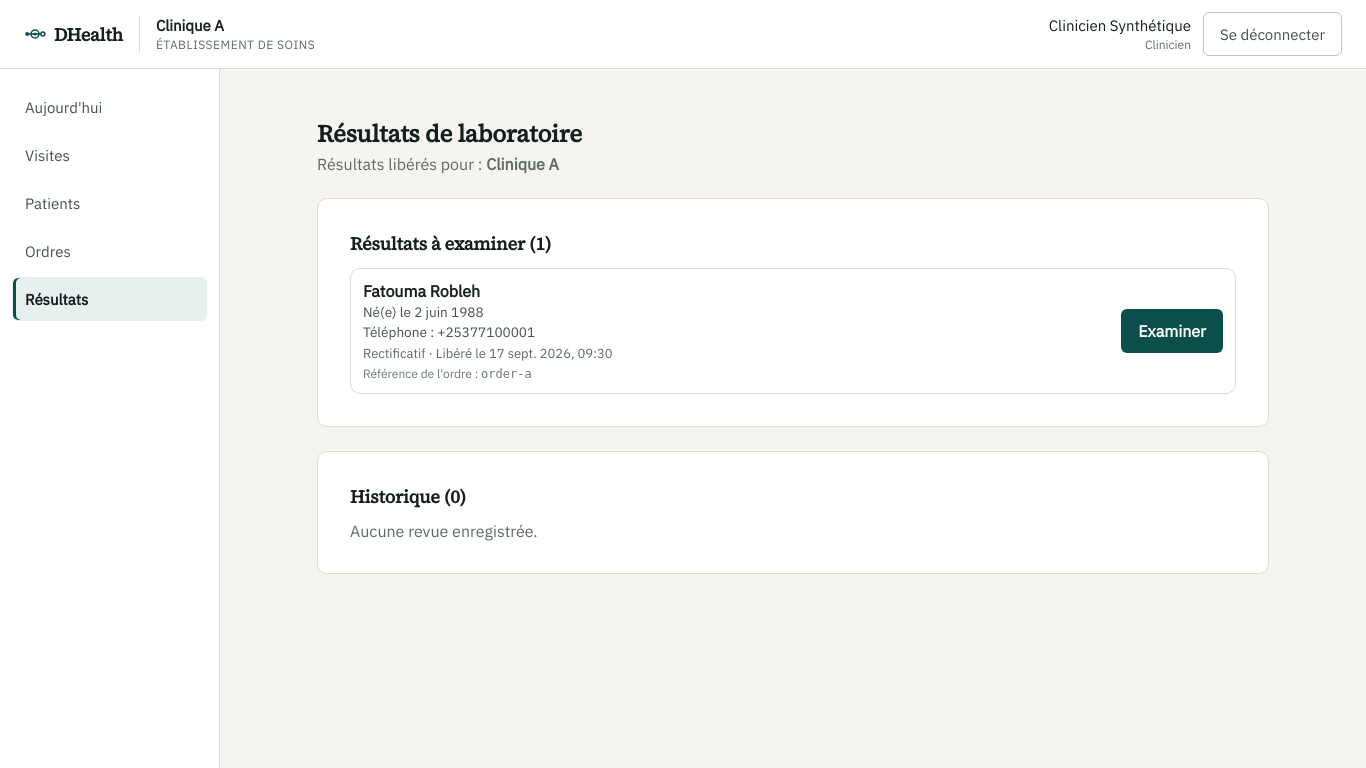
Scenario: ClinicResultsPage › UI-CUR3: the banner takes the clinician to the current version, and then withdraws
The width and height of the screenshot is (1366, 768).
Click the button "Examiner": x=1172, y=331 [1121,309,1223,353]
(page scrolled)
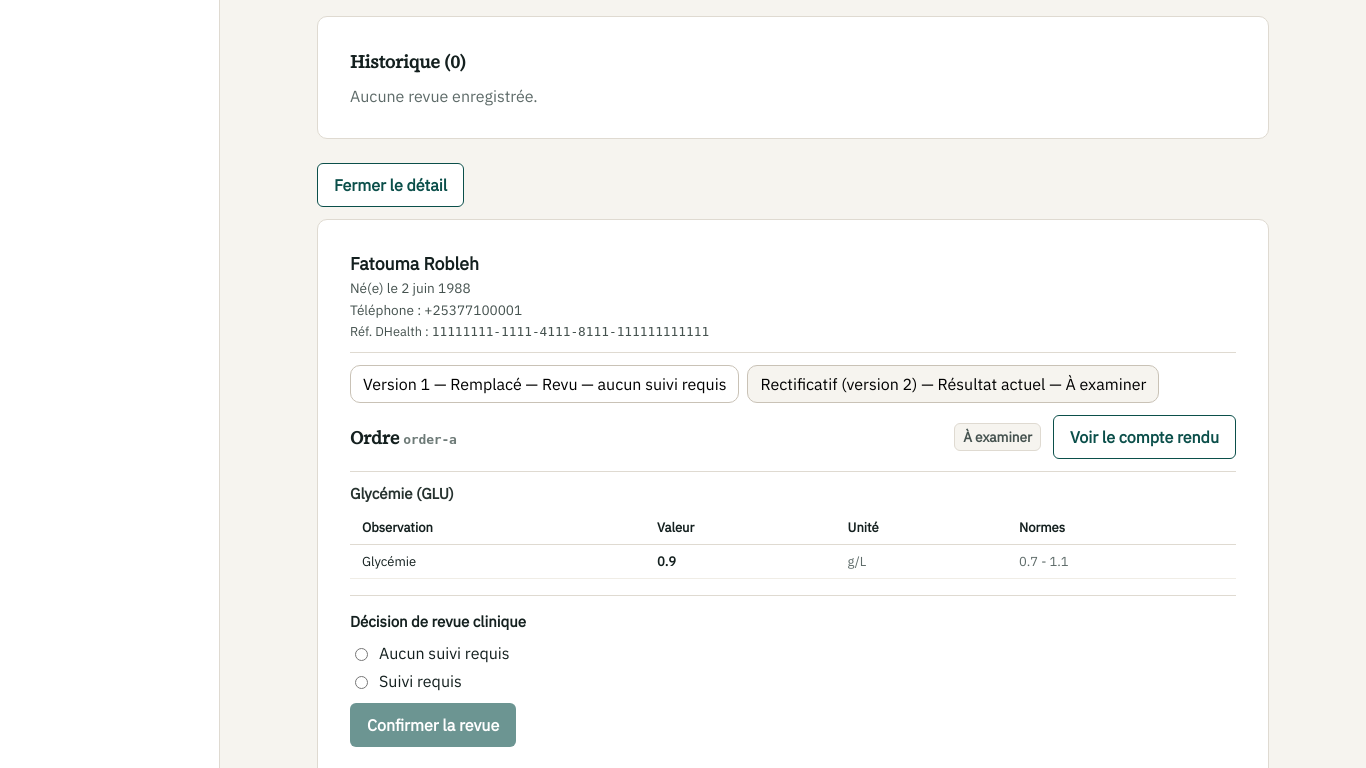
Check: the text "0.9" is shown, box [645,544,836,578]
Click the tab "Version 1 — Remplacé — Revu — aucun suivi requis": x=545, y=384 [350,365,739,403]
(page scrolled)
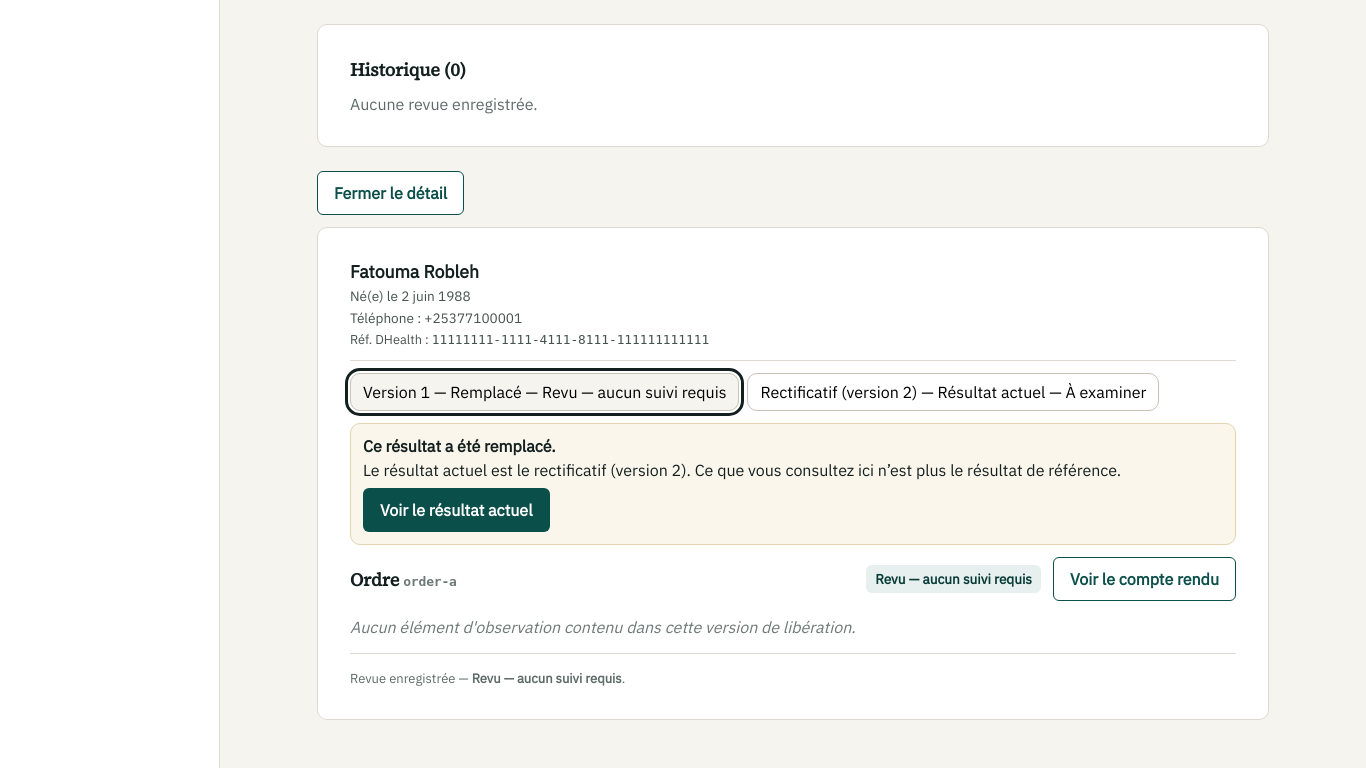
Check: the text "Ce résultat a été remplacé." is shown, box [363,436,556,456]
Click the button "Voir le résultat actuel": x=456, y=510 [363,488,550,532]
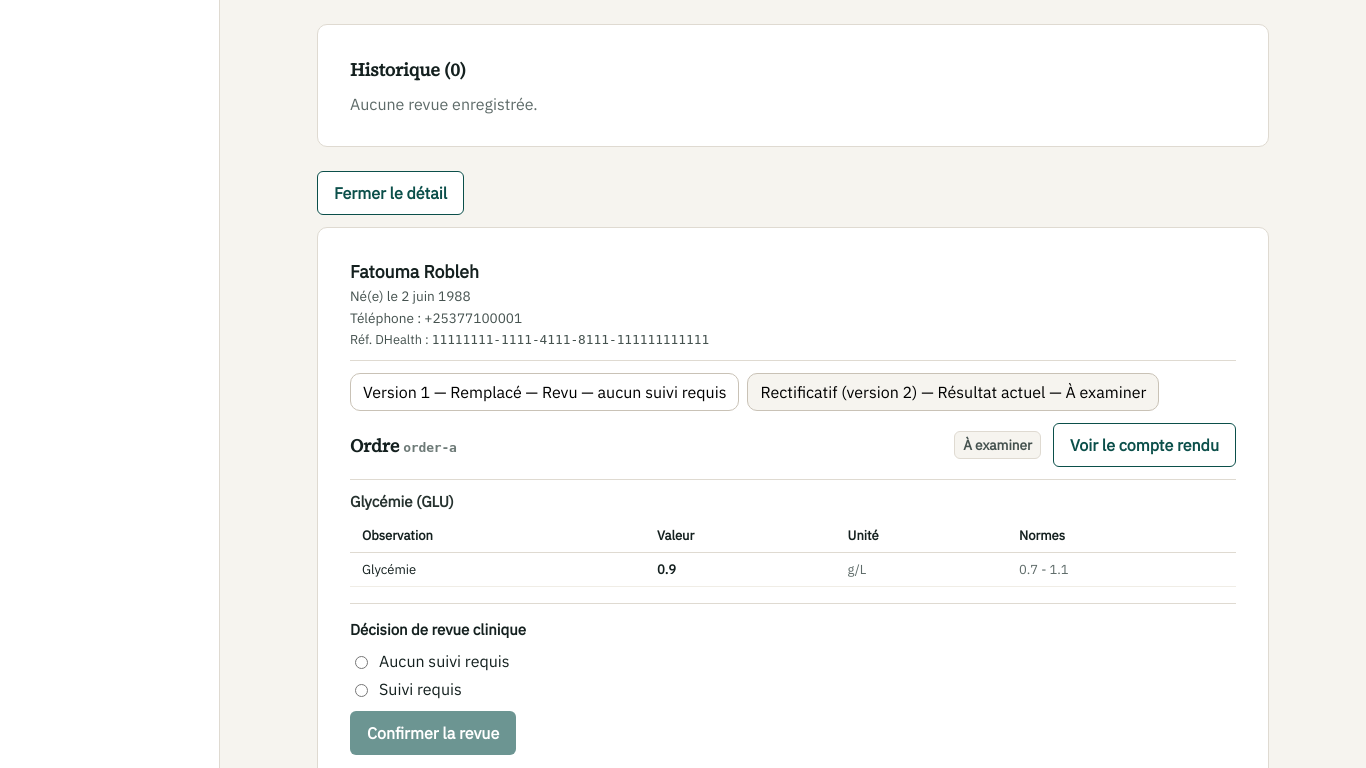
Check: the text "Ce résultat a été remplacé." is gone
